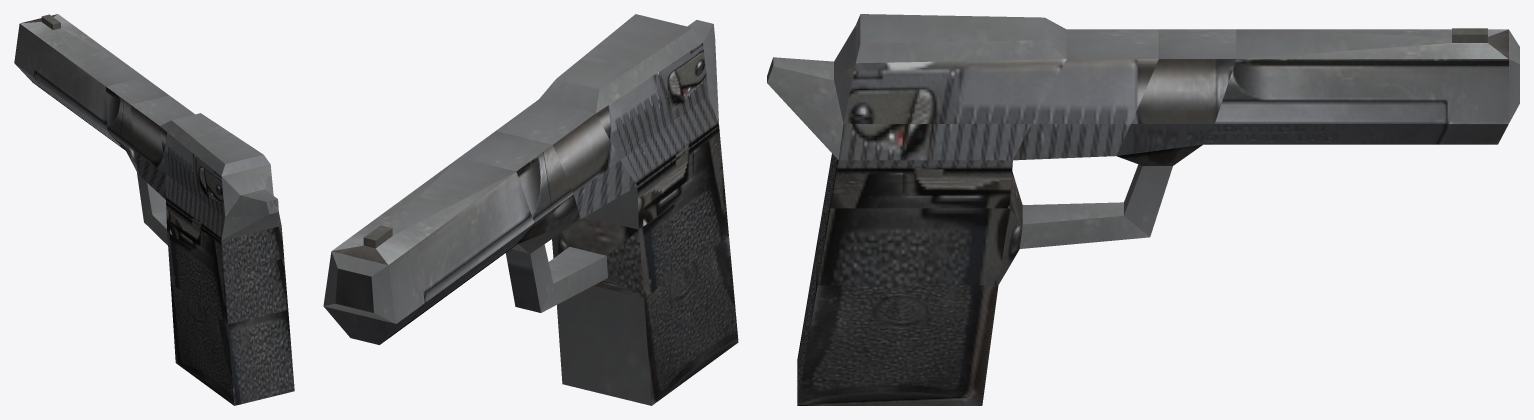
Rendered from Pistols.fbx.
3 views of the same model, side by side, from view 1: azimuth 30°, elevation 25°; view 2: azimuth 150°, elevation 25°; view 3: azimuth 270°, elevation 25° (orthographic). The views are drawn at different scales.
Parts seen in each view (by area): view 1: Pistols; view 2: Pistols; view 3: Pistols.
Part boxes in pixels (left/top/right/bottom): Pistols: left=14, top=14, right=294, bottom=405; Pistols: left=323, top=14, right=738, bottom=405; Pistols: left=767, top=14, right=1519, bottom=405.
Size of the model in its own units: 0.1716 by 0.6099 by 1.18.
